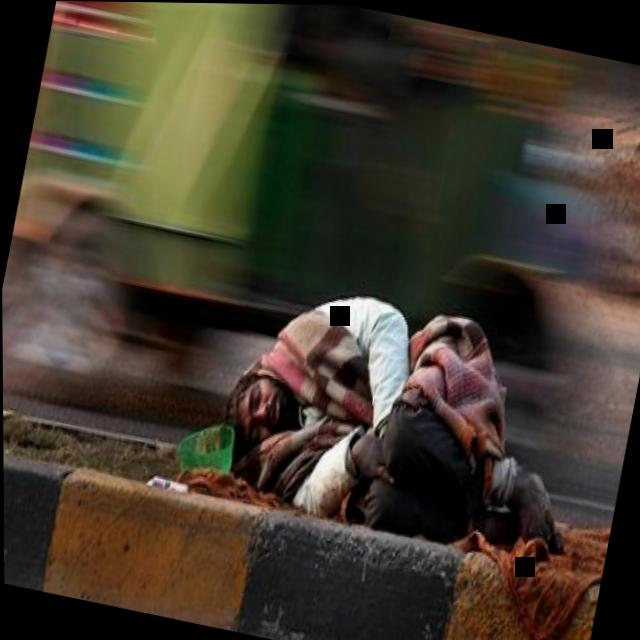Fall-Detected: (190, 246, 617, 578)
